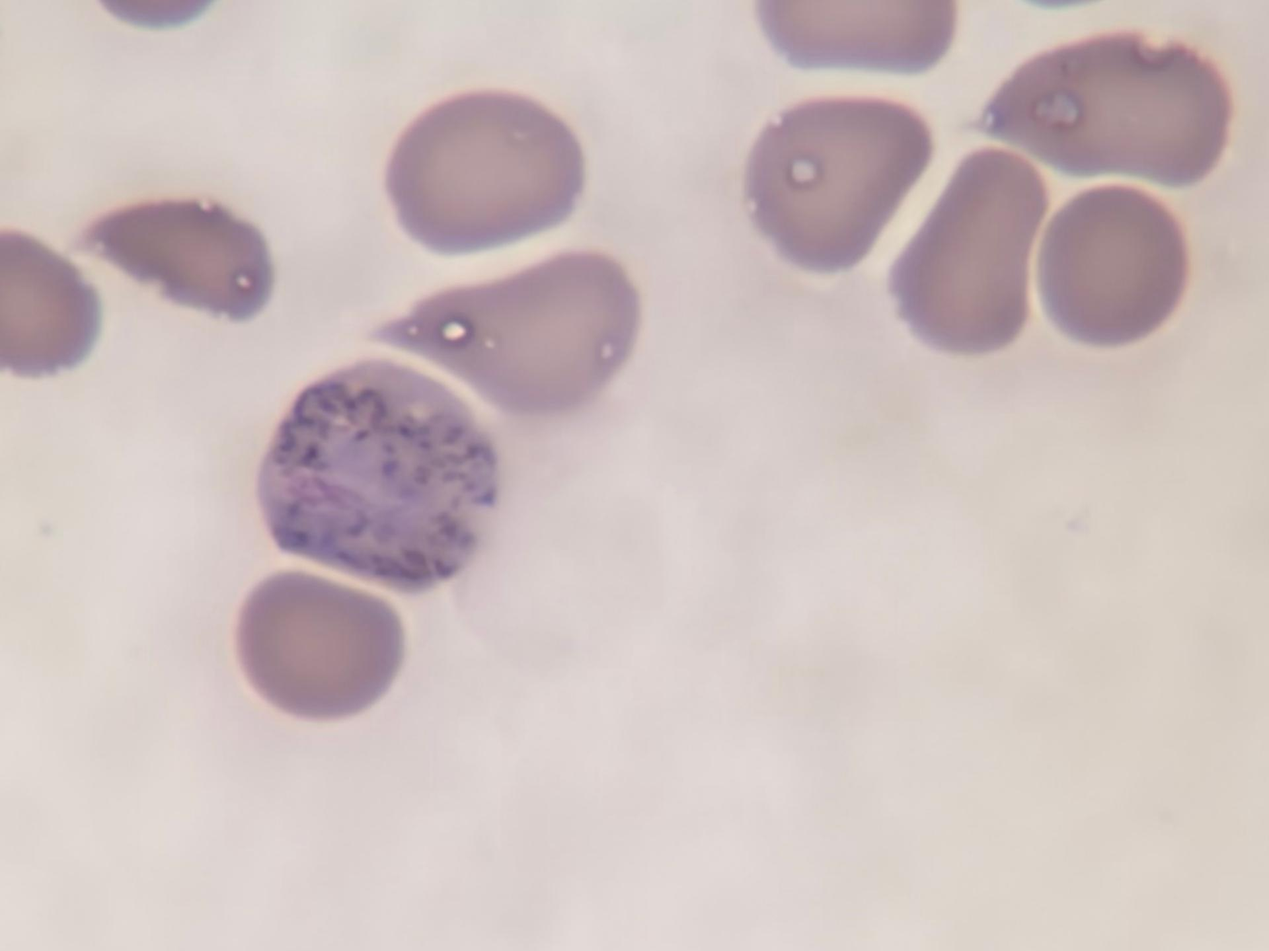Infected: (260, 362, 501, 596)
Uninfected: (372, 248, 643, 415), (972, 32, 1231, 183), (745, 98, 931, 276), (386, 91, 589, 251), (888, 148, 1044, 355), (236, 573, 405, 727), (75, 195, 275, 324), (1040, 181, 1193, 345)
